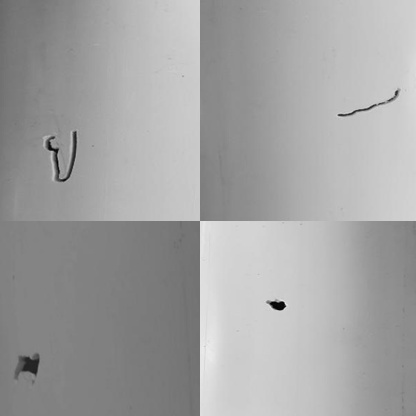fengxi: (40, 125, 83, 185), (331, 87, 401, 122)
kongdong: (10, 350, 47, 385), (265, 294, 285, 313)
